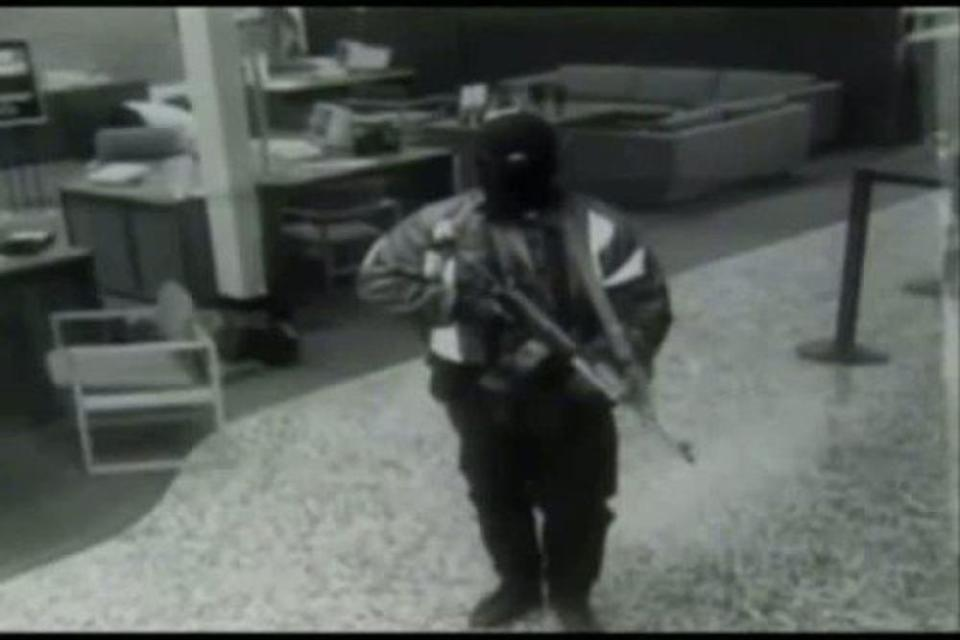non-violence: (352, 108, 682, 632)
weapon: (429, 232, 706, 471)
